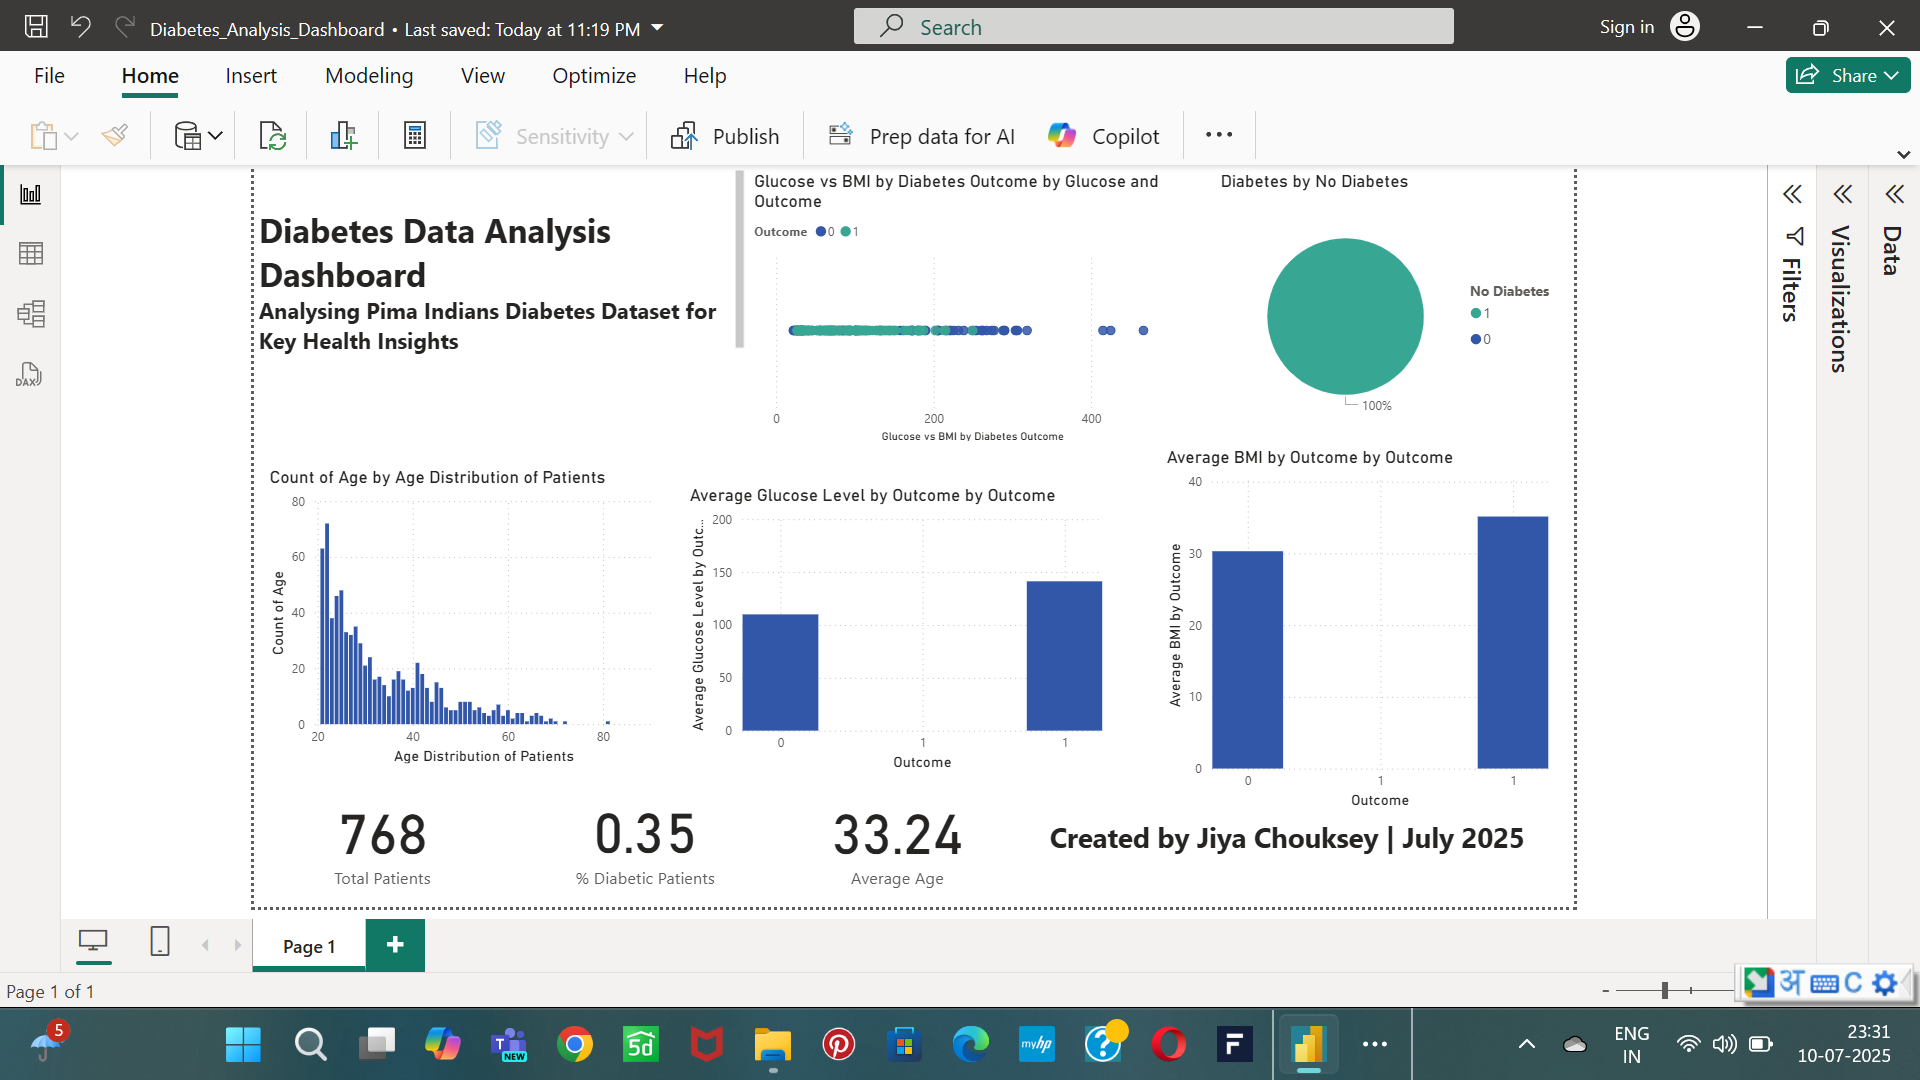

The page's visual inventory and layout, read from the dashboard file:
{"tool":"powerbi","page":{"name":"Page 1","canvas":[1280,720],"ordinal":0},"visuals":[{"type":"textbox","box":[0,0,480.4,194.1],"z":0},{"type":"card","fields":{"Values":["CountNonNull(diabetes.Age)"]},"box":[9.7,584.5,228.3,136],"z":1000},{"type":"card","fields":{"Values":["Avg(diabetes.Outcome)"]},"box":[239.6,585.6,278.5,134.4],"z":2000},{"type":"card","fields":{"Values":["Avg(diabetes.Age)"]},"box":[519.8,584.5,208.9,136],"z":3000},{"type":"pieChart","fields":{"Category":["diabetes.Outcome"],"Y":["Sum(diabetes.Outcome)"]},"box":[933.7,6.4,346.8,262.5],"z":4000},{"type":"clusteredColumnChart","fields":{"Category":["diabetes.Outcome"],"Y":["Avg(diabetes.Glucose)"]},"box":[418.3,310.2,410.4,281.5],"z":5000},{"type":"clusteredColumnChart","fields":{"Category":["diabetes.Outcome"],"Y":["Avg(diabetes.BMI)"]},"box":[881.2,273.6,380.2,354.7],"z":6000},{"type":"scatterChart","fields":{"Category":["diabetes.Glucose"],"X":["Sum(diabetes.BMI)"],"Series":["diabetes.Outcome"]},"box":[480.4,6.4,423.1,267.2],"z":7000},{"type":"clusteredColumnChart","fields":{"Category":["diabetes.Age"],"Y":["CountNonNull(diabetes.Age)"]},"box":[9.5,292.7,386.5,292.7],"z":8000},{"type":"textbox","box":[766.7,628.3,494.7,92.3],"z":8001}]}

Visuals, with their boxes on the page's 1280x720 design canvas (x1, y1, x2, y2). These are canvas units, not pixel positions in the 1920x1080 screenshot, which may show the page scaled, cropped or inside an application window:
textbox: x1=0, y1=0, x2=480, y2=194
card - CountNonNull(diabetes.Age): x1=10, y1=584, x2=238, y2=720
card - Avg(diabetes.Outcome): x1=240, y1=586, x2=518, y2=720
card - Avg(diabetes.Age): x1=520, y1=584, x2=729, y2=720
pieChart - diabetes.Outcome x Sum(diabetes.Outcome): x1=934, y1=6, x2=1280, y2=269
clusteredColumnChart - diabetes.Outcome x Avg(diabetes.Glucose): x1=418, y1=310, x2=829, y2=592
clusteredColumnChart - diabetes.Outcome x Avg(diabetes.BMI): x1=881, y1=274, x2=1261, y2=628
scatterChart - diabetes.Glucose x Sum(diabetes.BMI): x1=480, y1=6, x2=904, y2=274
clusteredColumnChart - diabetes.Age x CountNonNull(diabetes.Age): x1=10, y1=293, x2=396, y2=585
textbox: x1=767, y1=628, x2=1261, y2=721
